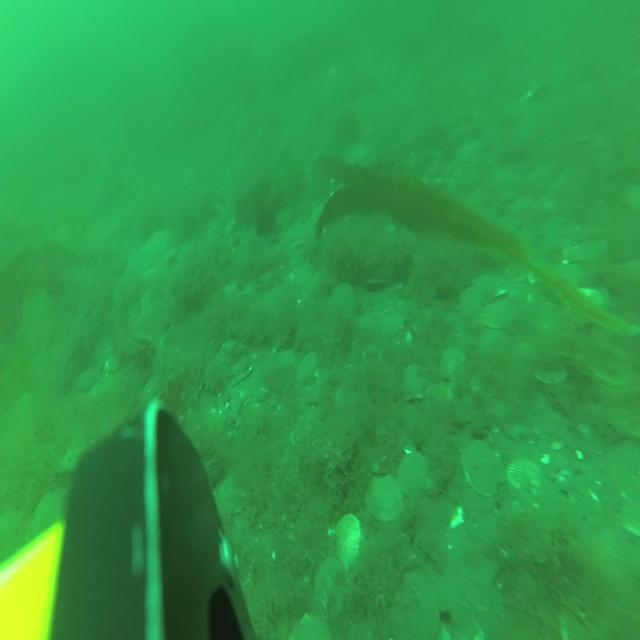echinus: (254, 205, 278, 242)
scallop: (390, 567, 440, 640), (460, 432, 508, 501), (312, 554, 352, 620), (364, 472, 406, 524), (396, 446, 429, 506), (213, 472, 254, 520), (335, 509, 365, 569), (510, 456, 544, 500), (398, 360, 430, 404), (327, 280, 358, 320), (532, 358, 570, 389), (291, 611, 331, 640), (482, 301, 518, 330), (441, 344, 466, 383), (296, 350, 320, 386), (458, 284, 482, 320), (473, 272, 498, 298), (381, 312, 407, 336), (276, 346, 296, 370), (364, 272, 386, 293)
starfish: (144, 227, 170, 261)
